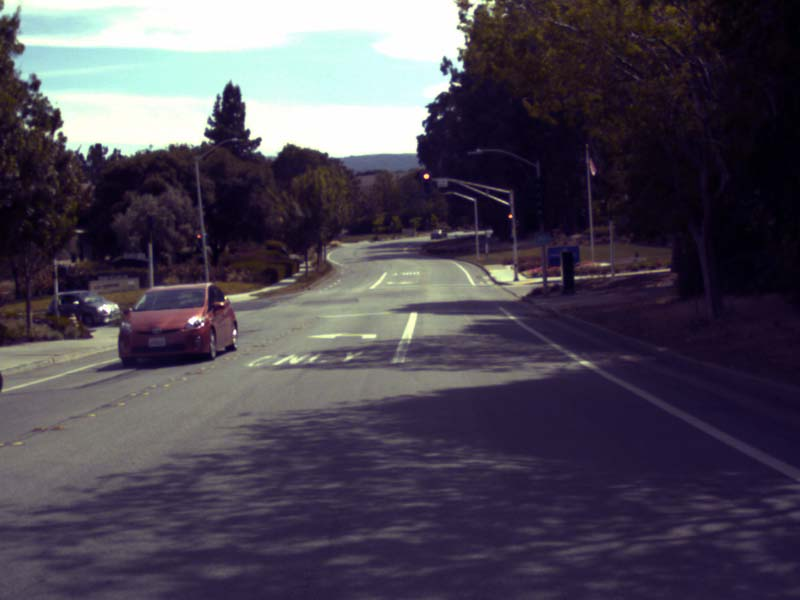Red: (422, 171, 431, 192), (506, 212, 512, 227)
